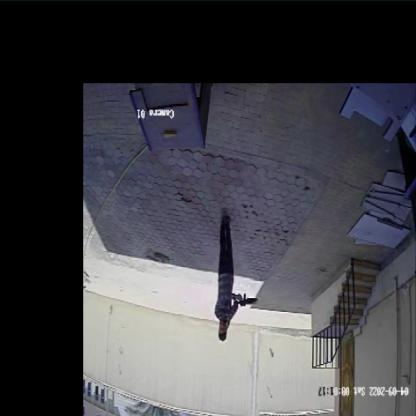handgun: (230, 292, 260, 308)
